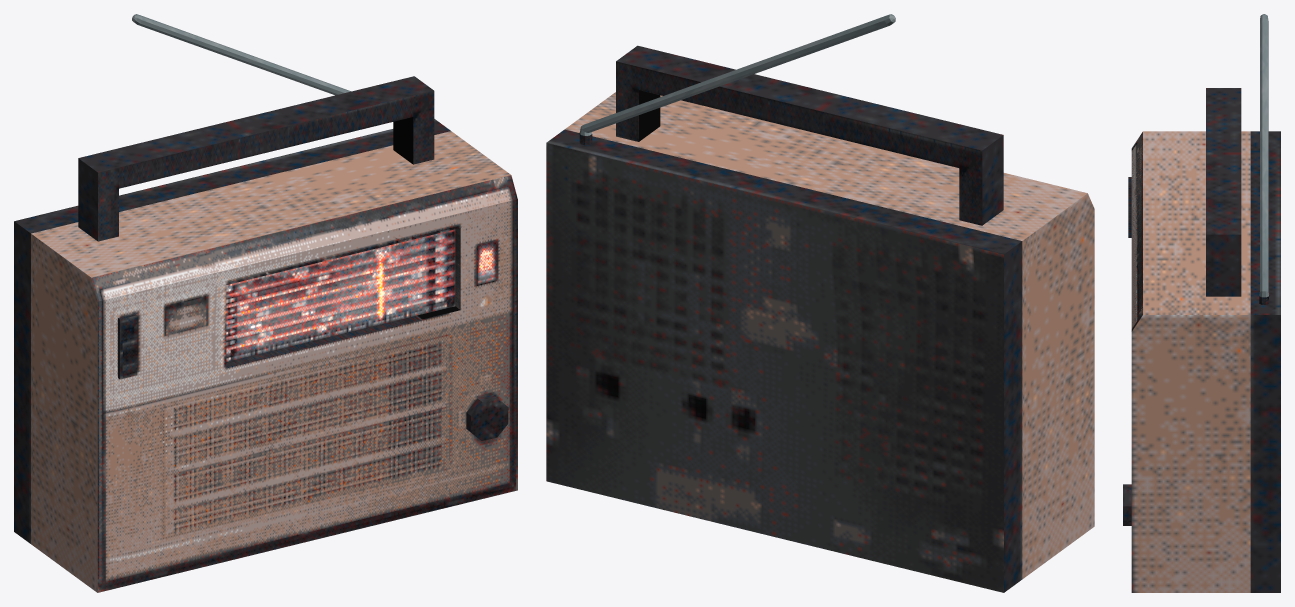
The model's file is radio.glb.
3 views of the same model, side by side, from view 1: azimuth 30°, elevation 25°; view 2: azimuth 150°, elevation 25°; view 3: azimuth 270°, elevation 25° (orthographic). The views are drawn at different scales.
Visible parts, largest first — view 1: Radio; view 2: Radio; view 3: Radio.
Part boxes in pixels (left/top/right/bottom): Radio: left=14, top=14, right=517, bottom=592; Radio: left=546, top=14, right=1094, bottom=592; Radio: left=1123, top=14, right=1280, bottom=592.
Bounding box in the file's own units: 0.4527 × 0.511 × 0.1644.
Materials: 1 (1 with a texture image).
